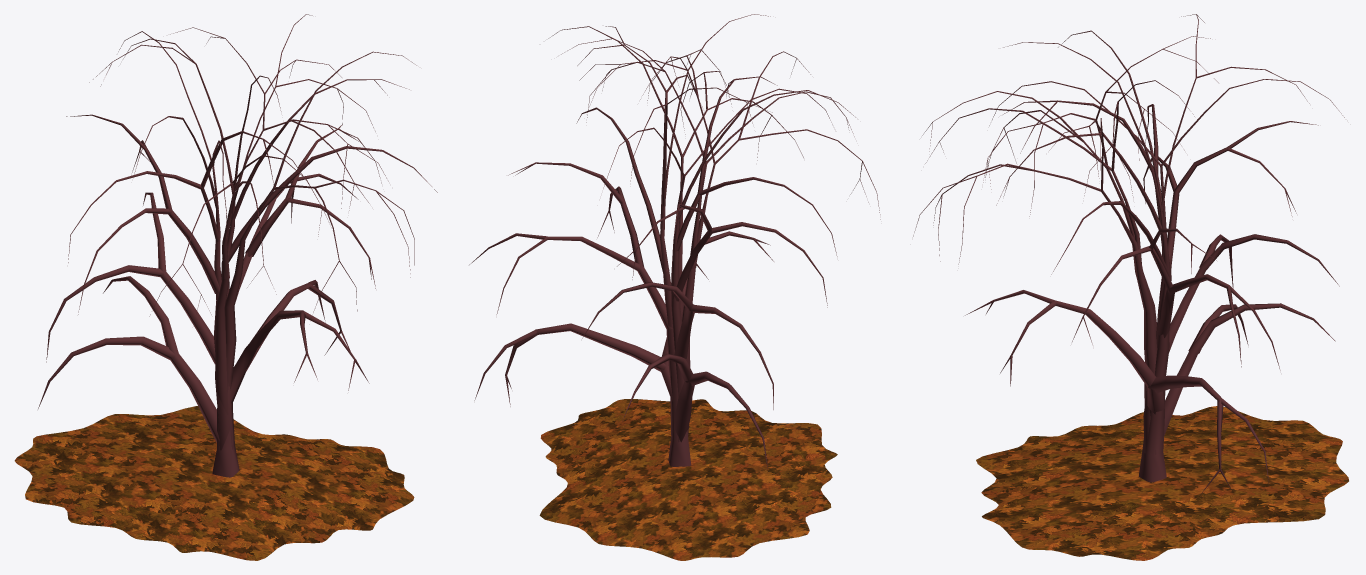
File: Y_Tree.fbx
The picture shows the model from 3 angles, left to right: view 1: azimuth 30°, elevation 25°; view 2: azimuth 150°, elevation 25°; view 3: azimuth 270°, elevation 25°; orthographic projection. The views are drawn at different scales.
Visible parts, largest first — view 1: tree.002; view 2: tree.002; view 3: tree.002.
Part boxes in pixels (x1,y1,x2,y2): tree.002: (14, 14, 437, 560); tree.002: (469, 14, 880, 560); tree.002: (913, 14, 1348, 560).
Bounding box in the file's own units: 1876 × 2299 × 2064.
